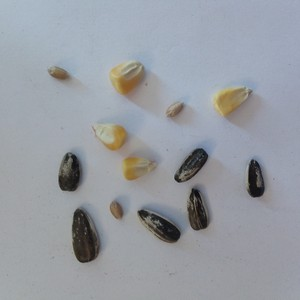girasol: (68, 205, 101, 266), (134, 208, 182, 245), (172, 145, 209, 184), (184, 186, 213, 233), (240, 155, 269, 200), (55, 149, 82, 195)
maiz: (209, 78, 257, 122), (85, 118, 137, 152), (106, 56, 150, 96), (120, 152, 160, 185)
trigo: (45, 62, 71, 83), (163, 99, 186, 119), (108, 197, 124, 224)
